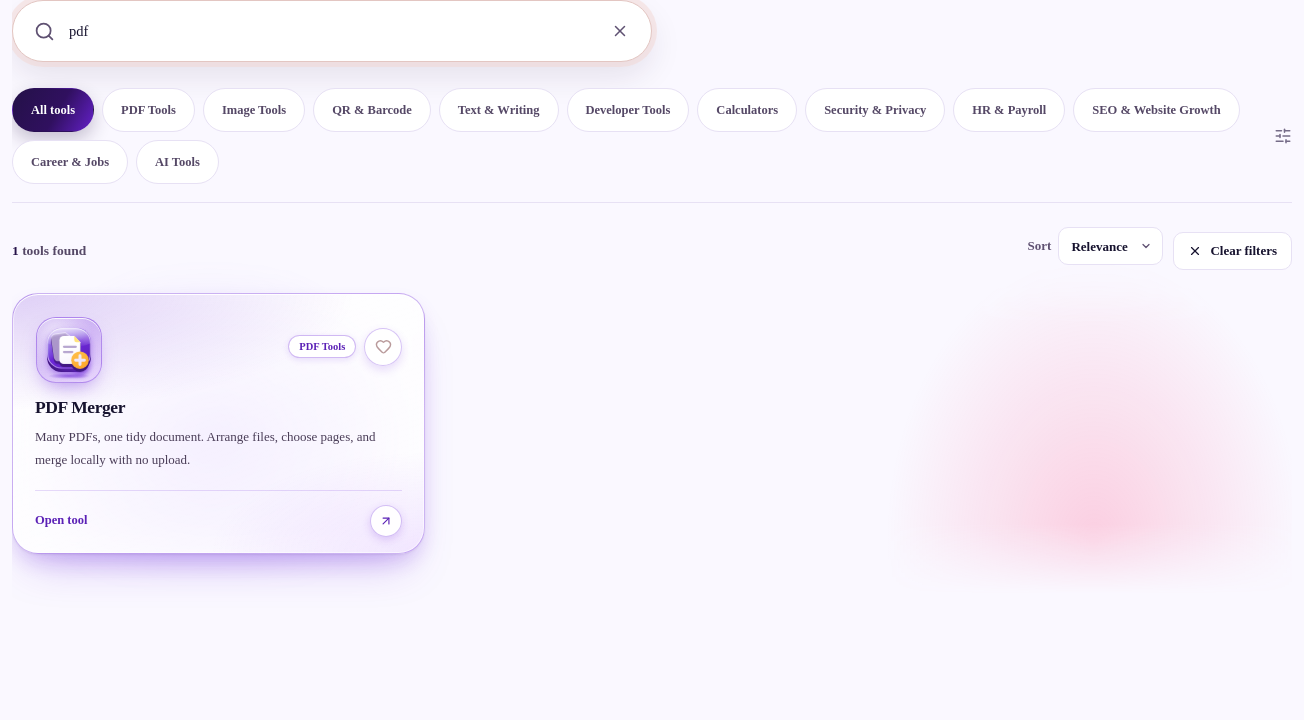
Test: All Tools explorer URL state › hydrates the query from ?q= and offers a clear-filters action
Expected: the search field named "Search tools" holds "pdf", top-left (67, 8), bottom-right (586, 54)
Expected: the message reads "1 tools found", top-left (12, 243), bottom-right (86, 259)
Click the button "Clear filters": (1233, 251) top-left (1174, 232), bottom-right (1292, 270)
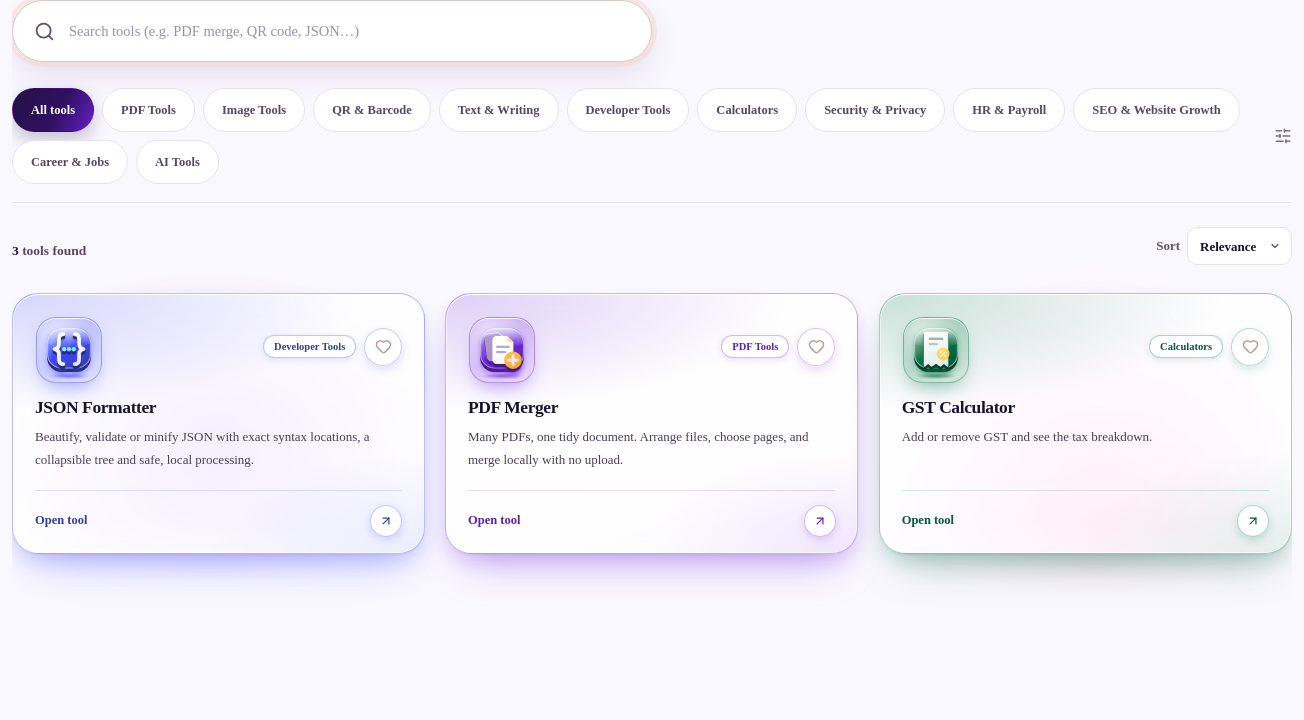
Expected: the message reads "3 tools found", top-left (12, 243), bottom-right (86, 259)
Expected: the button "Clear filters" is gone
